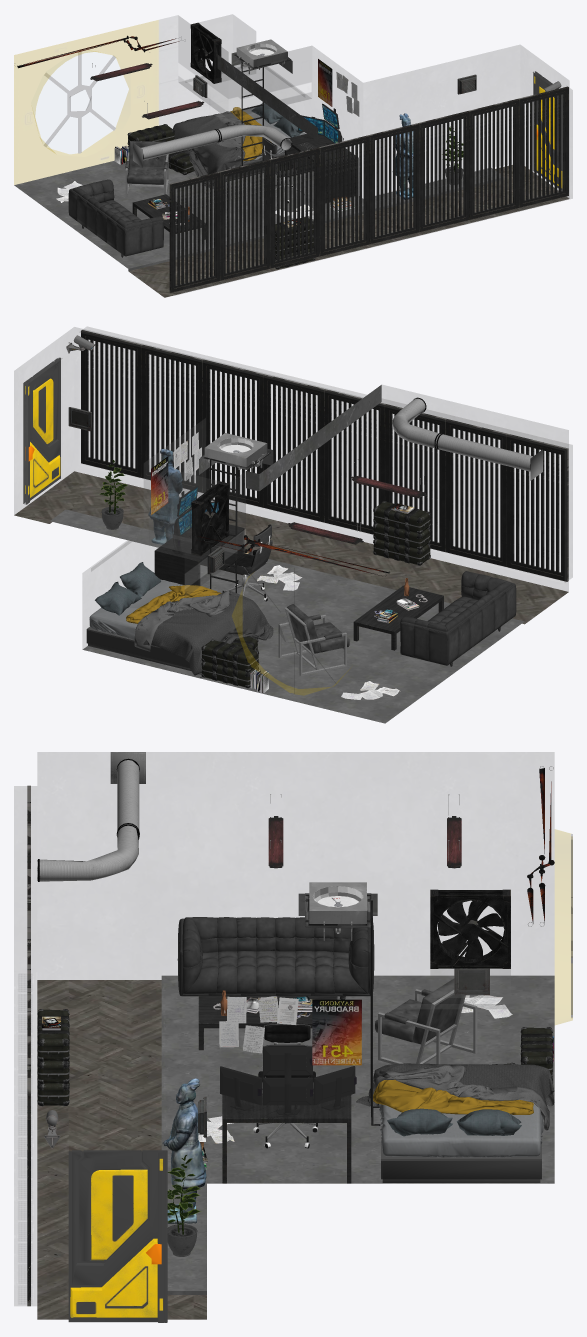
Rendered from room.glb.
3 renders of one model, top to bottom at view 1: azimuth 30°, elevation 25°; view 2: azimuth 150°, elevation 25°; view 3: azimuth 270°, elevation 25°, orthographic. The views are drawn at different scales.
Parts seen in each view (by area): view 1: DecorativePanels_DecorativePanels_0, Walls&Floors_low_Walls_0, Walls&Floors_low_Floor&Ceilling_0, BedPillows_BedFabrics_0, Sofa_Sofa_0, OfficeTable_Tables_0, AirPipe_AirPipe_0, Ammobox_AmmoBox_0, Door_low_Door_0, Books.001_Books_0, Ventilation_Ventilation_0, Airlock_Airlock_0 (+9 smaller); view 2: DecorativePanels_DecorativePanels_0, Walls&Floors_low_Walls_0, Walls&Floors_low_Floor&Ceilling_0, BedPillows_BedFabrics_0, Sofa_Sofa_0, Ammobox_AmmoBox_0, Door_low_Door_0, OfficeTable_Tables_0, AirPipe_AirPipe_0, Ventilation_Ventilation_0, Books.001_Books_0, Papers_Papers_0 (+11 smaller); view 3: Walls&Floors_low_Walls_0, Walls&Floors_low_Floor&Ceilling_0, Door_low_Door_0, BedPillows_BedFabrics_0, Sofa_Sofa_0, Monitor.001_Monitor&Mouse_0, AirPipe_AirPipe_0, OfficeTable_Tables_0, BedFrame_BedFrame_0, Books.001_Books_0, Ammobox_AmmoBox_0, Ventilation_Ventilation_0 (+13 smaller).
Part boxes in pixels (x1,y1,x2,y2): DecorativePanels_DecorativePanels_0: [169, 86, 568, 292]; Walls&Floors_low_Walls_0: [14, 14, 572, 295]; Walls&Floors_low_Floor&Ceilling_0: [14, 52, 569, 297]; BedPillows_BedFabrics_0: [173, 103, 305, 188]; Sofa_Sofa_0: [68, 179, 164, 257]; OfficeTable_Tables_0: [132, 134, 358, 239]; AirPipe_AirPipe_0: [133, 124, 292, 167]; Ammobox_AmmoBox_0: [127, 124, 315, 269]; Door_low_Door_0: [533, 71, 562, 190]; Books.001_Books_0: [114, 59, 354, 227]; Ventilation_Ventilation_0: [190, 22, 221, 83]; Airlock_Airlock_0: [233, 39, 291, 74]; DecorativePanels_DecorativePanels_0: [81, 330, 568, 581]; Walls&Floors_low_Walls_0: [14, 327, 572, 695]; Walls&Floors_low_Floor&Ceilling_0: [14, 385, 568, 723]; BedPillows_BedFabrics_0: [89, 562, 273, 678]; Sofa_Sofa_0: [400, 571, 516, 666]; Ammobox_AmmoBox_0: [201, 501, 430, 688]; Door_low_Door_0: [23, 358, 60, 504]; OfficeTable_Tables_0: [154, 524, 443, 650]; AirPipe_AirPipe_0: [392, 397, 542, 480]; Ventilation_Ventilation_0: [191, 481, 229, 556]; Books.001_Books_0: [151, 456, 419, 693]; Papers_Papers_0: [173, 432, 400, 699]; Walls&Floors_low_Walls_0: [14, 752, 572, 1322]; Walls&Floors_low_Floor&Ceilling_0: [37, 893, 554, 1319]; Door_low_Door_0: [68, 1150, 167, 1322]; BedPillows_BedFabrics_0: [356, 1063, 554, 1157]; Sofa_Sofa_0: [177, 917, 374, 999]; Monitor.001_Monitor&Mouse_0: [220, 1046, 356, 1115]; AirPipe_AirPipe_0: [37, 752, 145, 881]; OfficeTable_Tables_0: [198, 995, 351, 1183]; BedFrame_BedFrame_0: [381, 1109, 541, 1182]; Books.001_Books_0: [42, 996, 553, 1169]; Ammobox_AmmoBox_0: [37, 1009, 552, 1106]; Ventilation_Ventilation_0: [430, 889, 510, 968].
Bounding box in the file's own units: 9.07 × 2.94 × 6.24.
27 materials, 27 textured.
